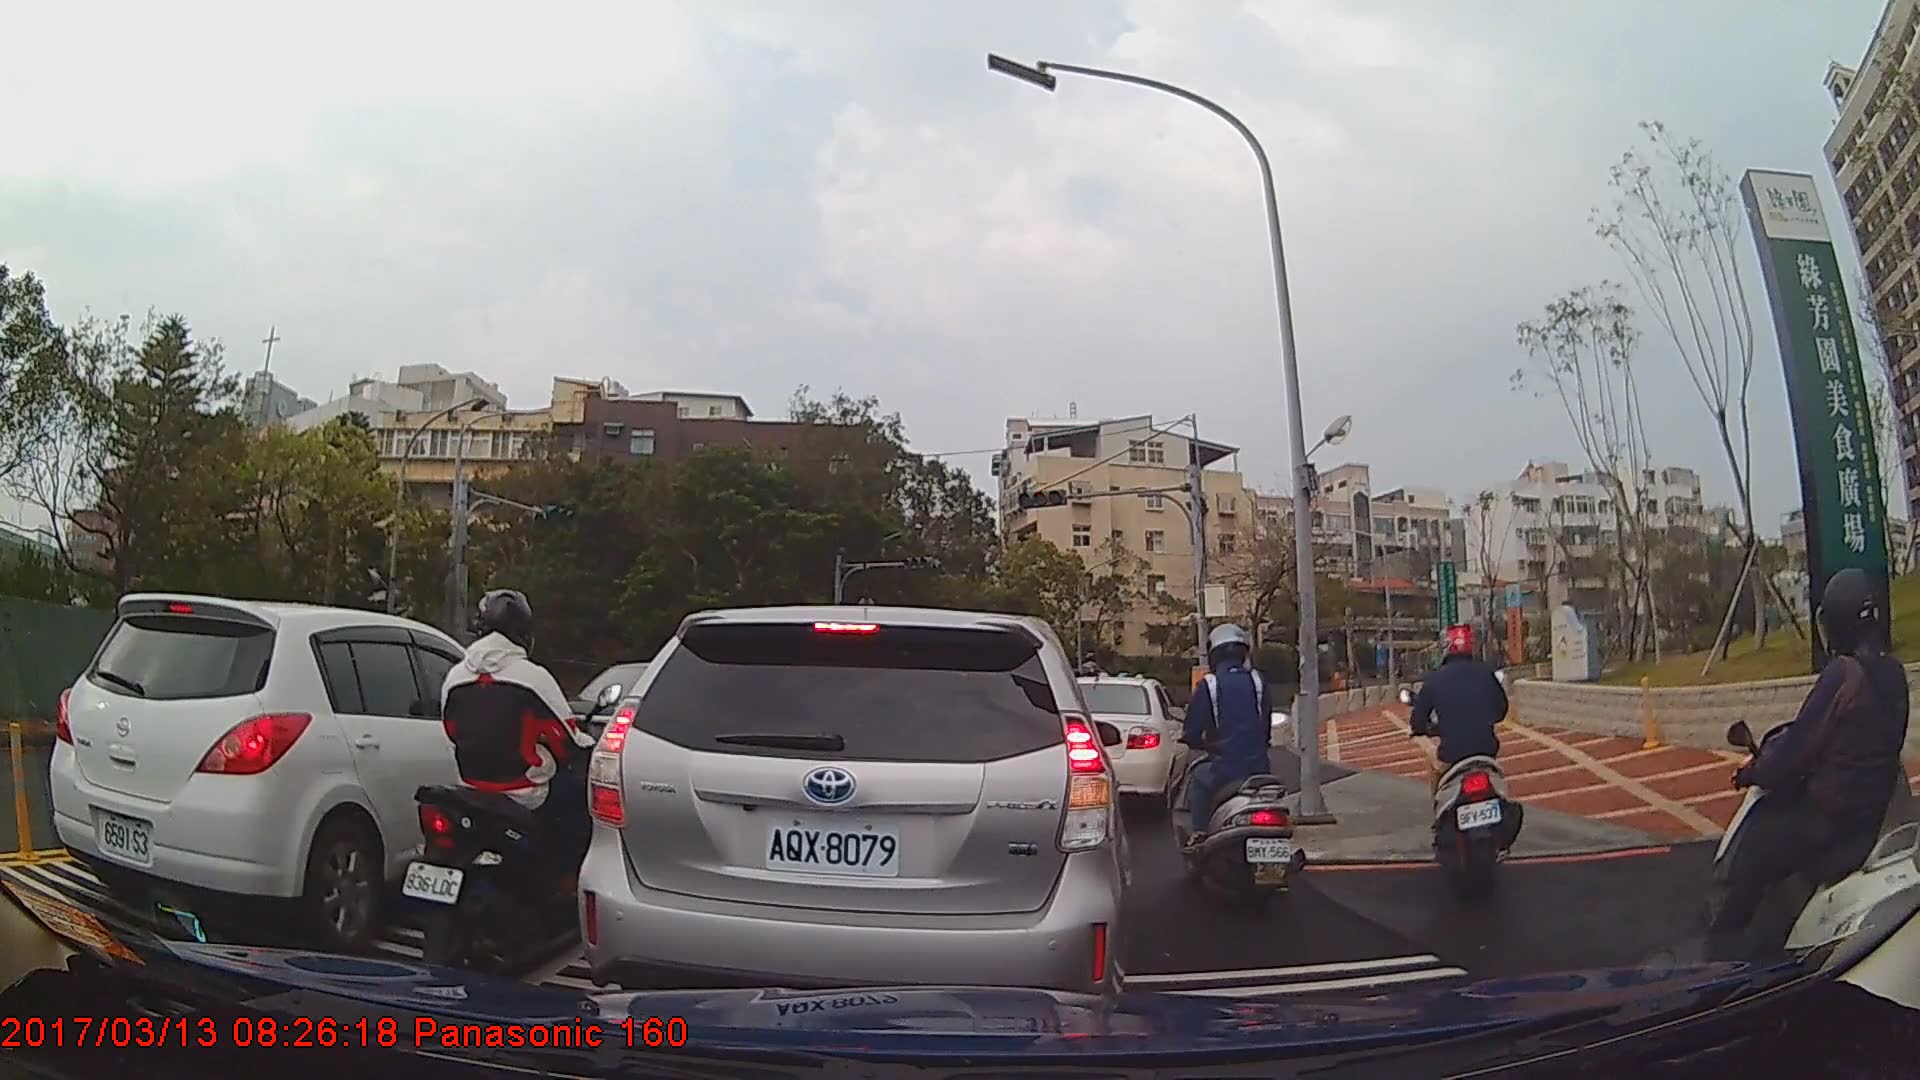rider: (1688, 562, 1920, 1040), (400, 586, 619, 985), (1166, 622, 1301, 911), (1400, 615, 1523, 887)
vehicle: (577, 604, 1130, 1023), (46, 592, 585, 952), (1056, 673, 1192, 813)
